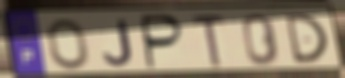0: (241, 12, 280, 68)
D: (283, 12, 330, 65)
J: (101, 18, 136, 69)
O: (45, 18, 92, 72)
P: (141, 14, 187, 72)
T: (189, 14, 229, 69)
